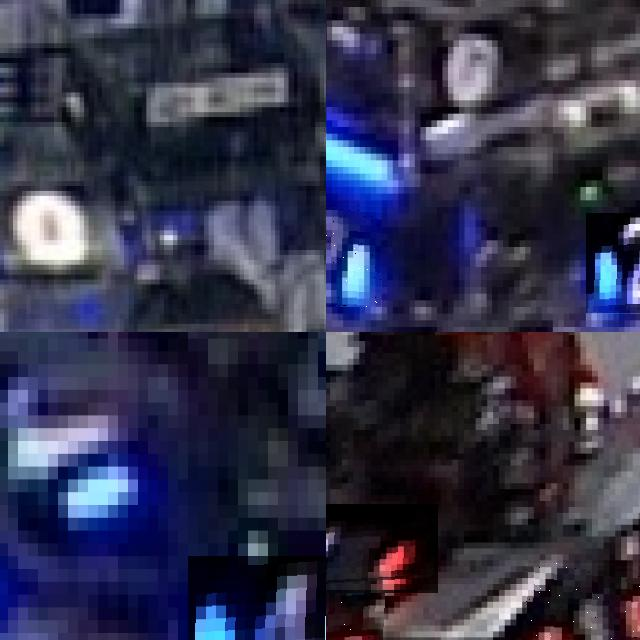B2: (326, 200, 381, 306), (585, 213, 640, 313)
B4: (188, 556, 326, 640)
R1: (326, 504, 437, 593), (525, 563, 640, 640)
